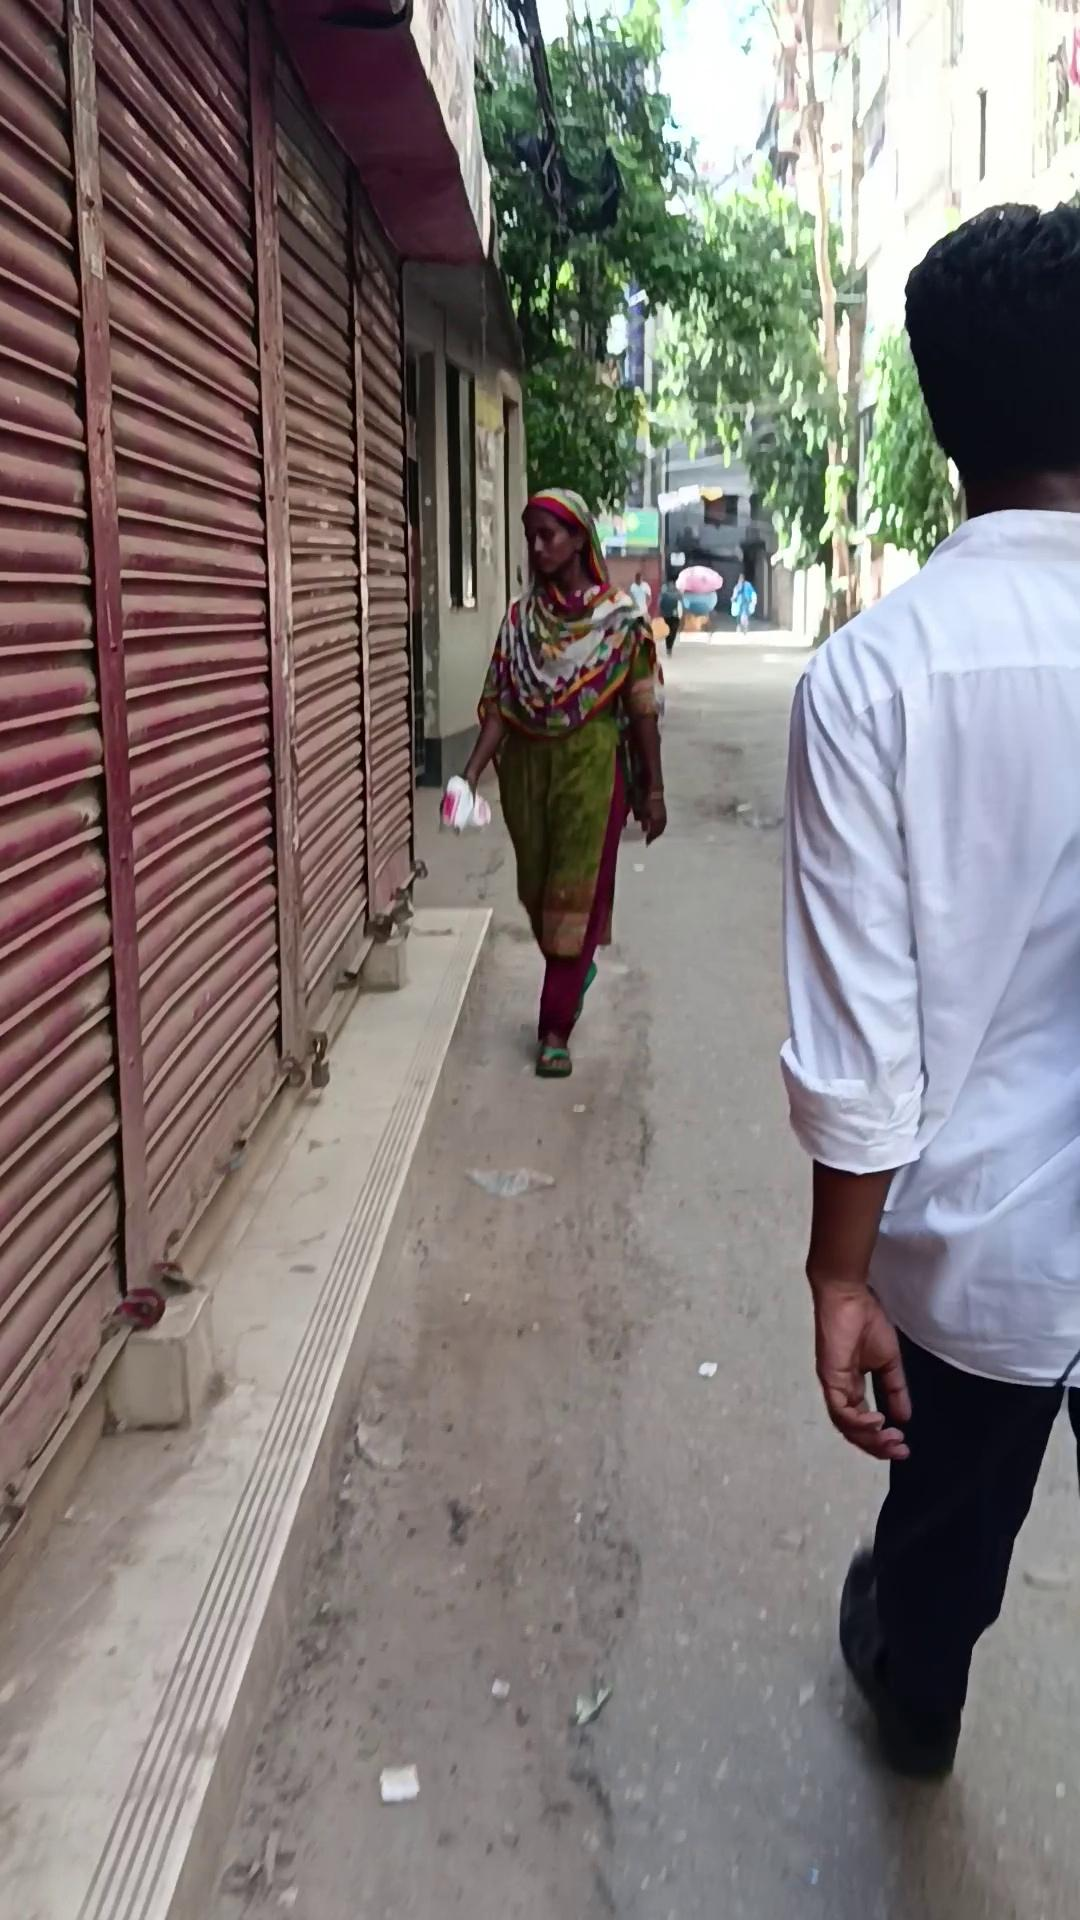Crosswalk: (73, 899, 495, 1916)
Muddy road: (777, 198, 1079, 1780), (451, 485, 666, 1077), (657, 578, 684, 655), (729, 572, 756, 634), (626, 570, 651, 621)
Tree: (0, 0, 402, 1428)
